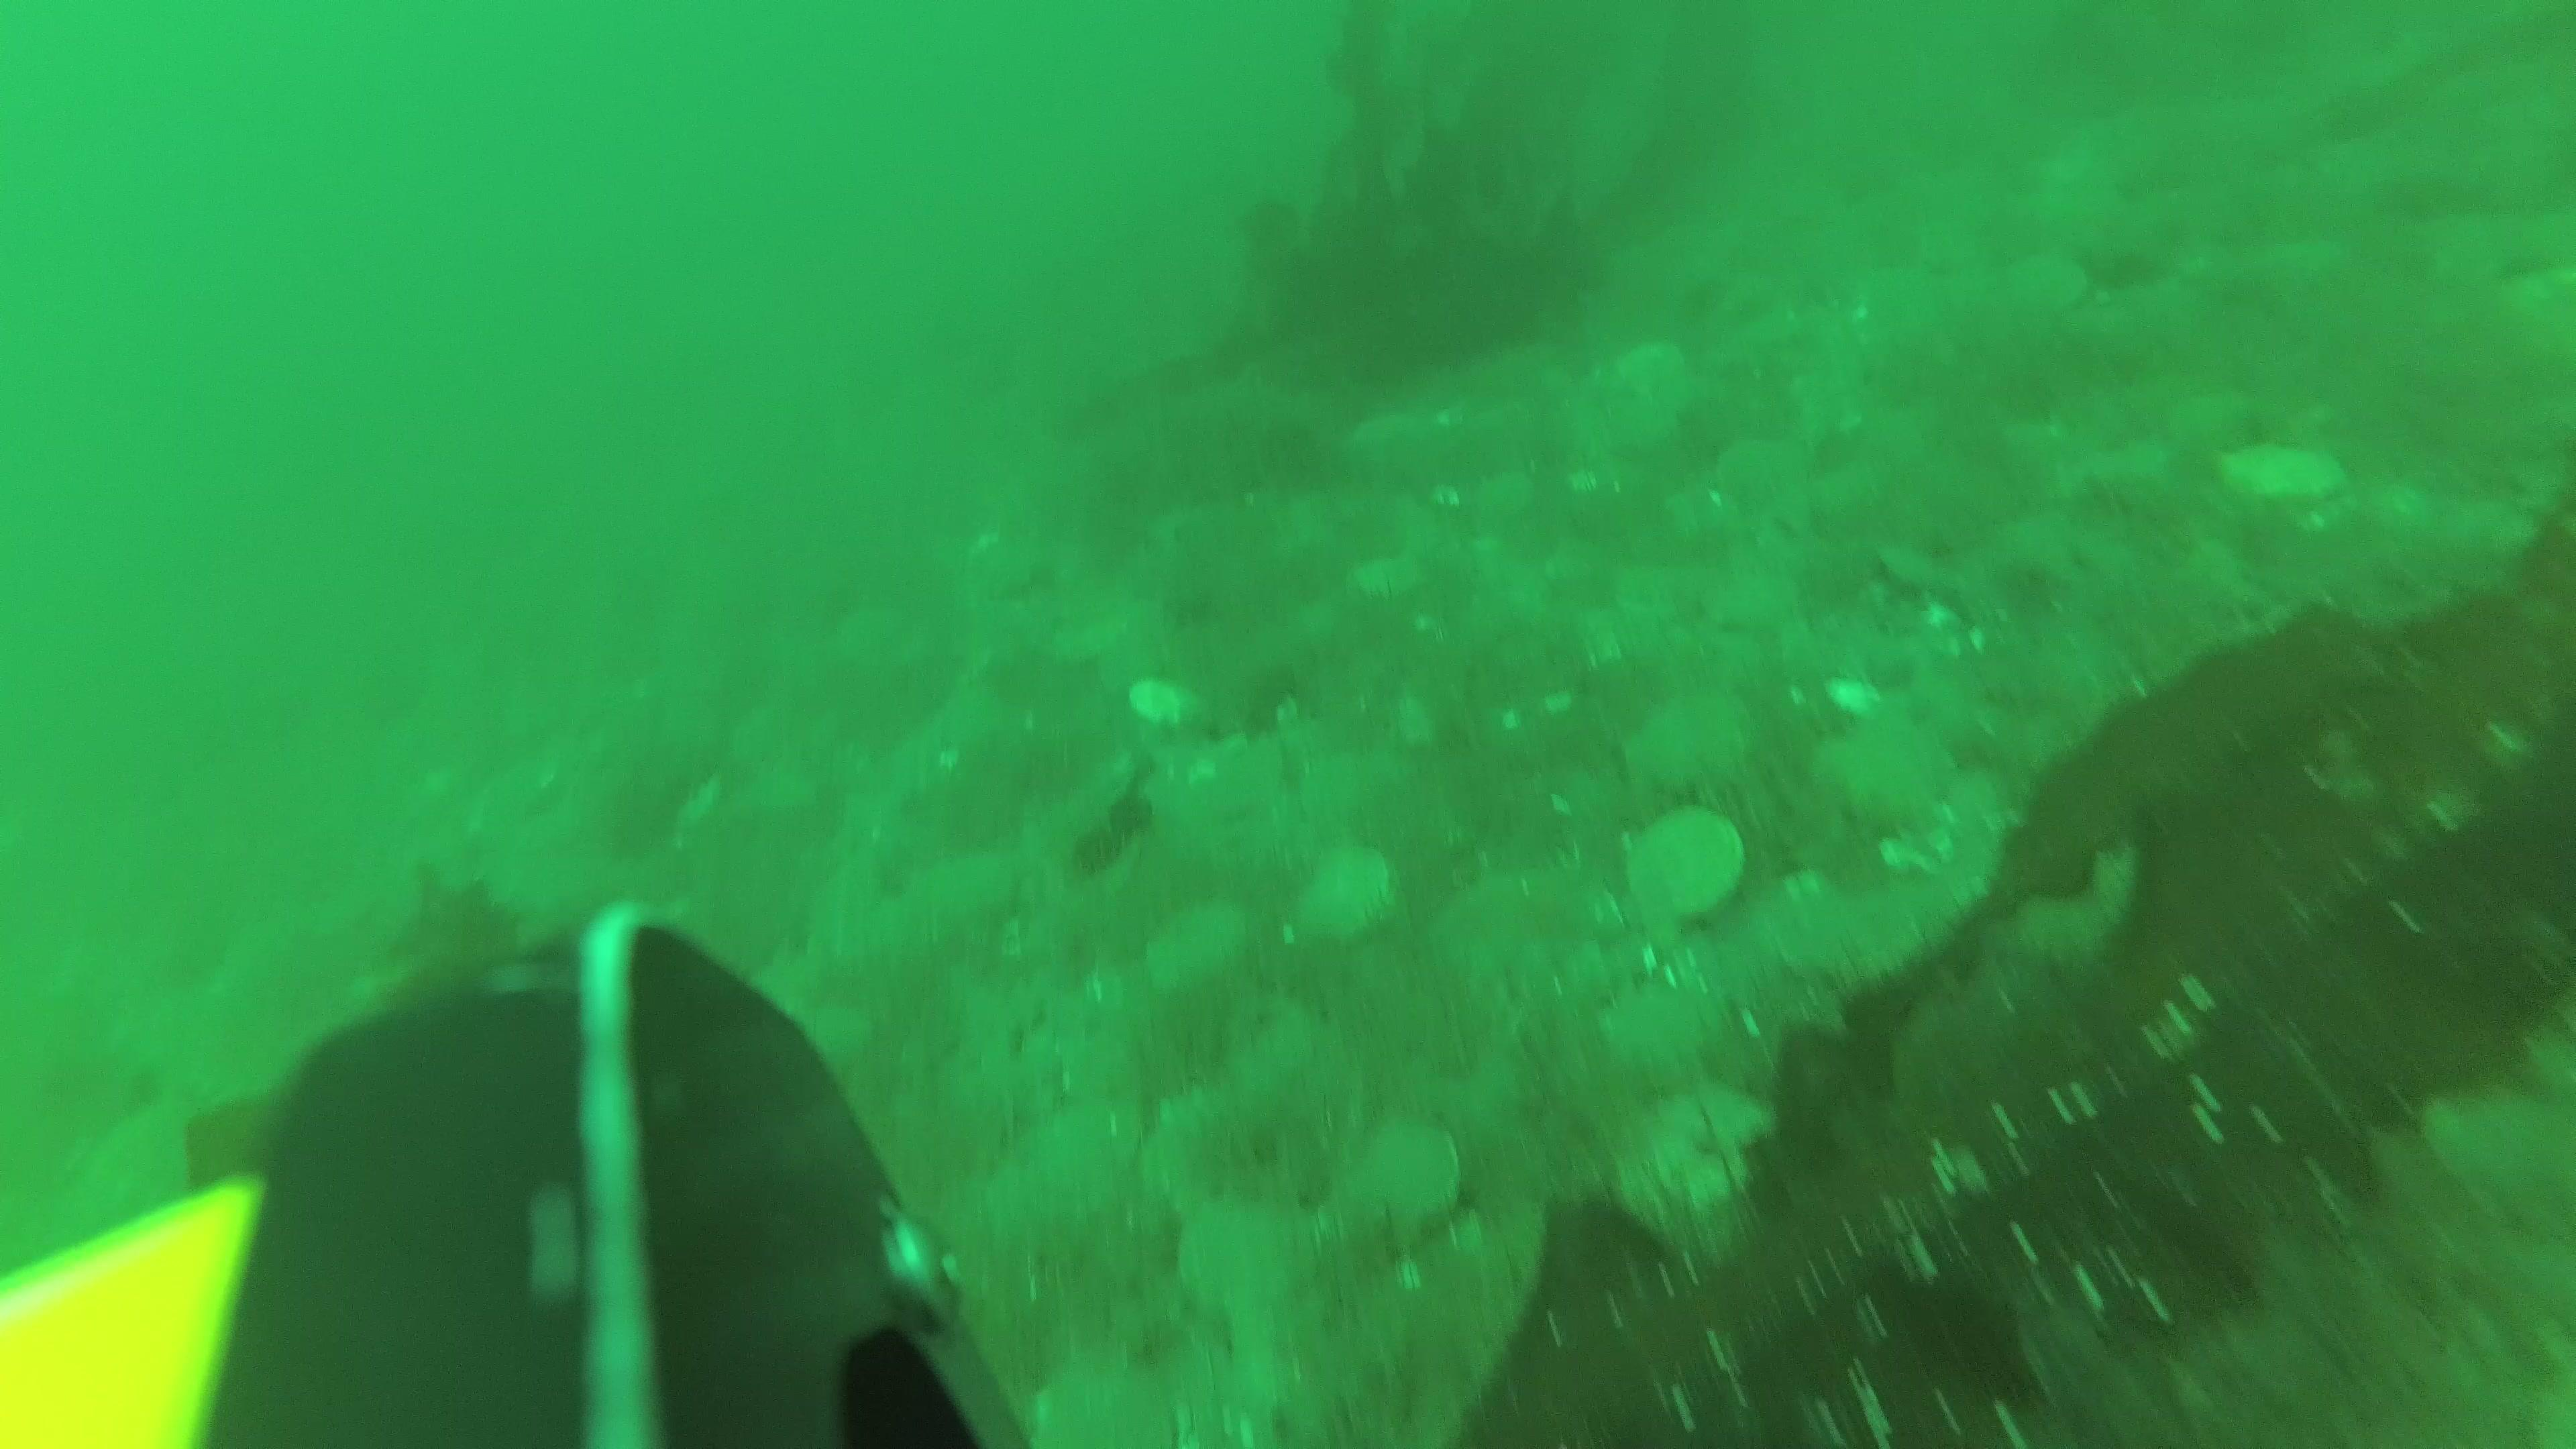scallop: (1821, 718, 1955, 839), (1184, 1203, 1316, 1315), (1633, 807, 1752, 924), (1346, 1122, 1463, 1240), (1629, 694, 1757, 800), (1596, 977, 1704, 1093), (1292, 851, 1391, 955), (1150, 906, 1253, 994), (2229, 441, 2350, 513), (1720, 433, 1810, 502)
